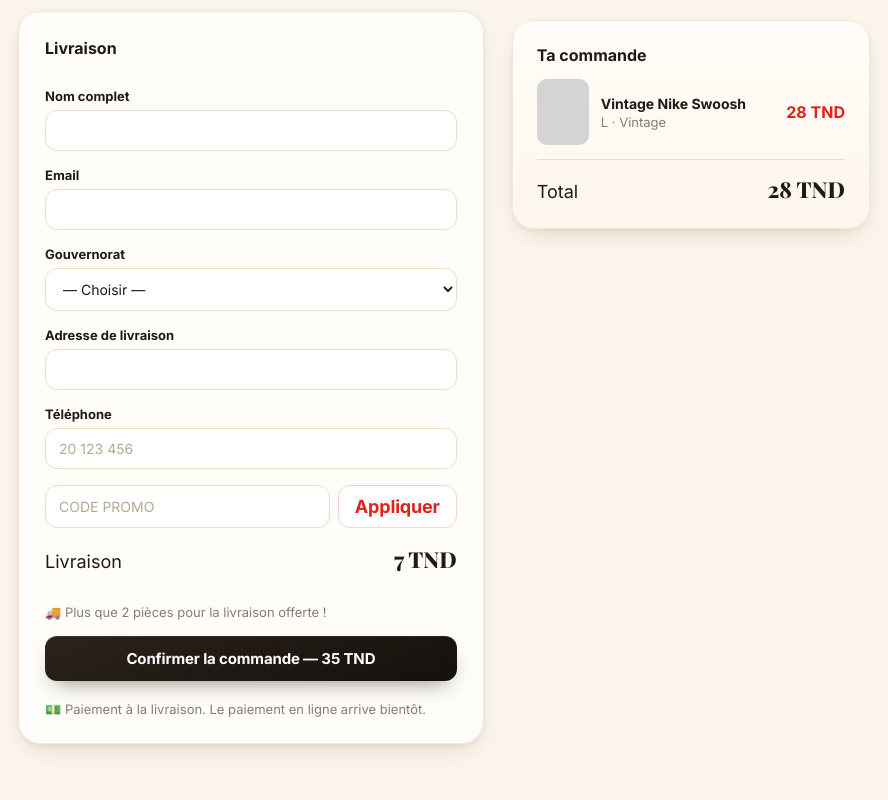
it: CheckoutPage › does not place the order when required fields are empty
(page scrolled)
Click the button "Confirmer la commande — 35 TND". click: (251, 658)
box: [45,636,457,681]
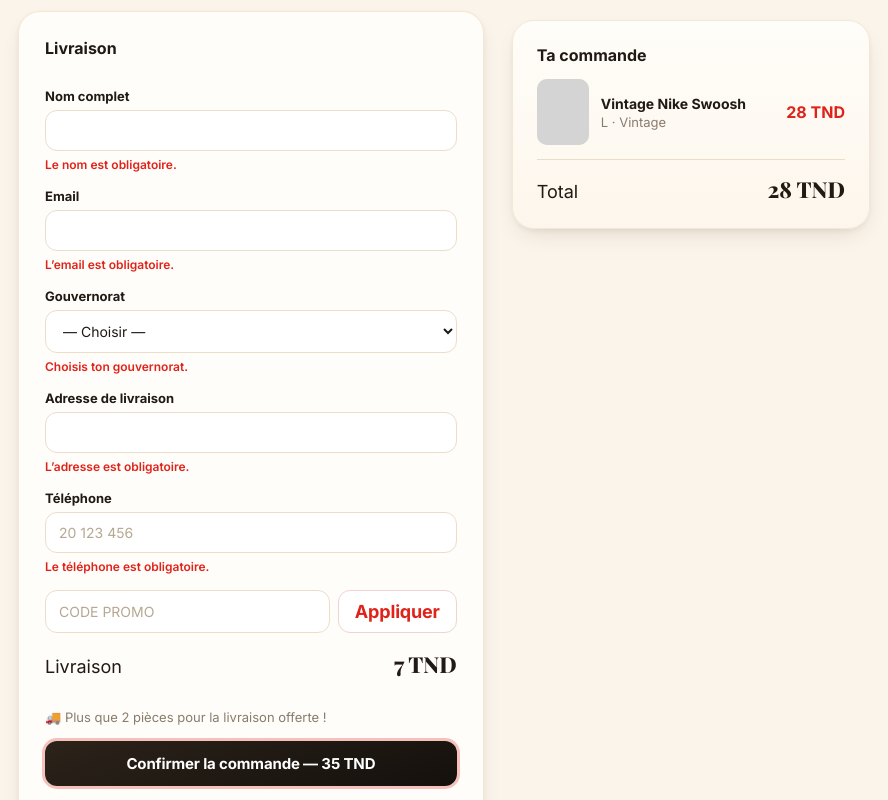
Result: the text "Le nom est obligatoire." is shown at [45,157,177,172]
